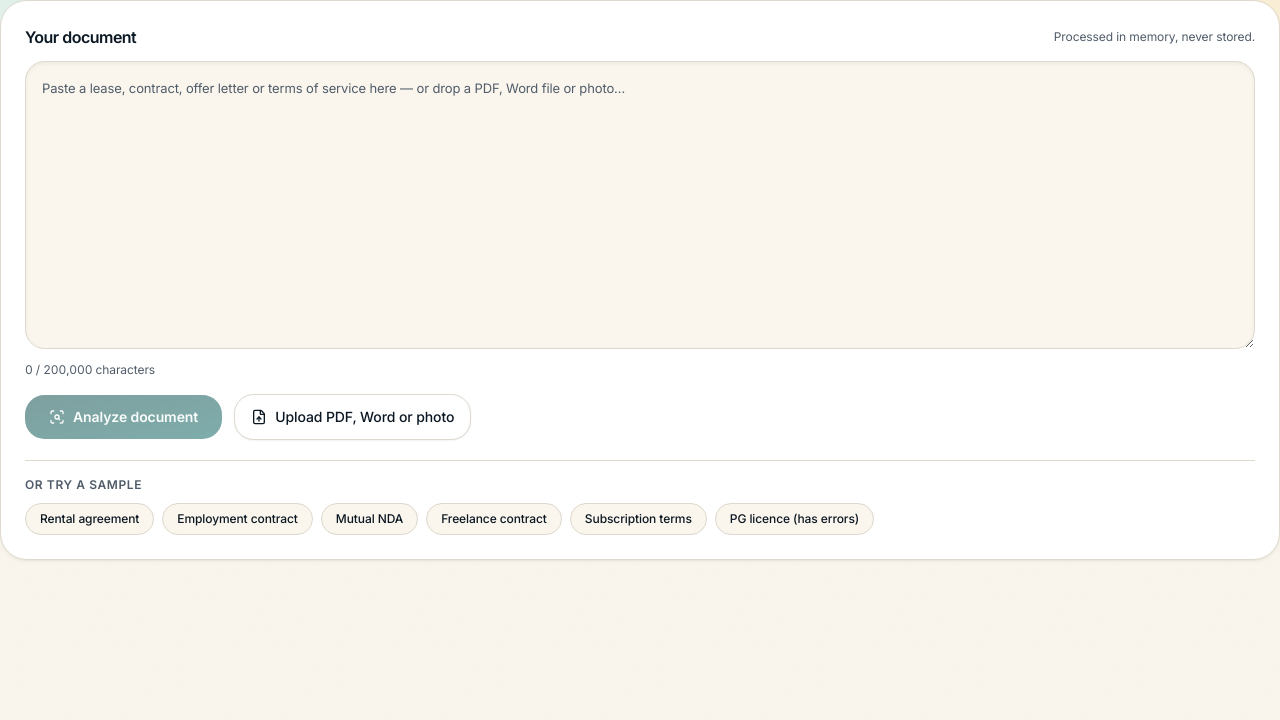
it: Analyzer › shows a server error as an alert tied to the text box
Step 1. Type "Too short." into the text box named "Document text" → (640, 205), box x1=25 y1=61 x2=1255 y2=348
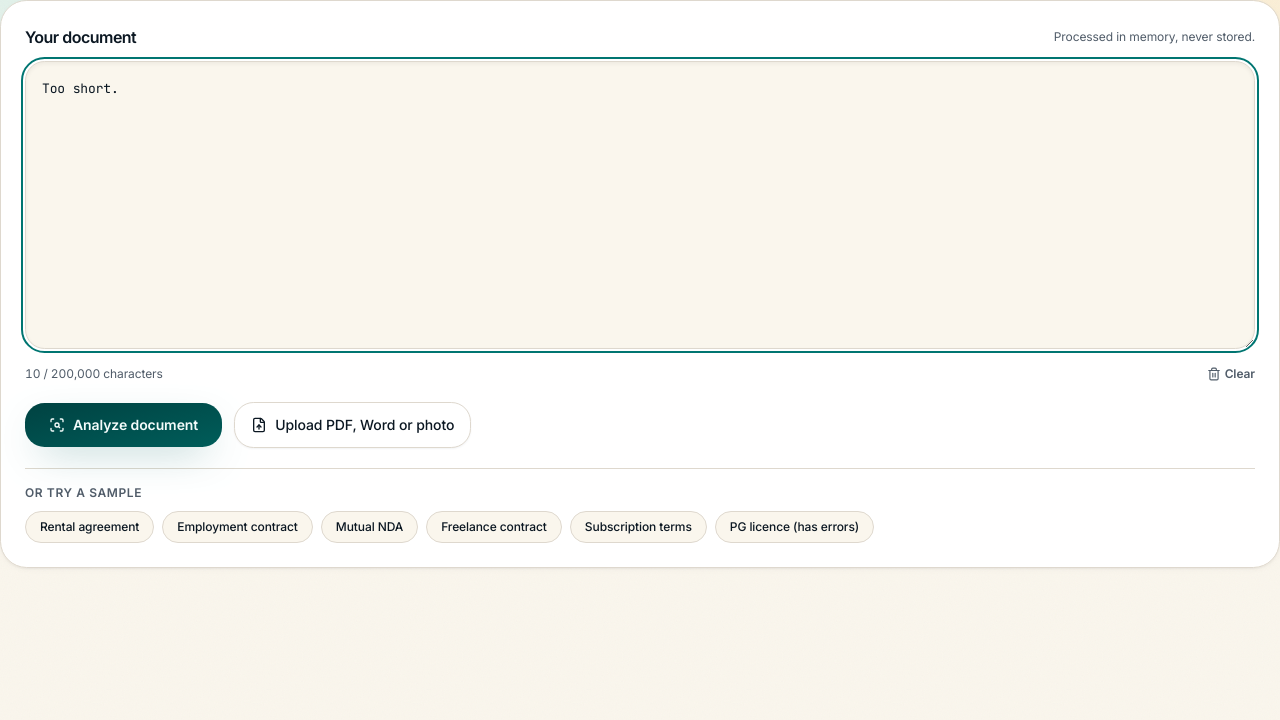
Step 2. Click the button "Analyze document" → click(124, 425), box x1=25 y1=403 x2=222 y2=447
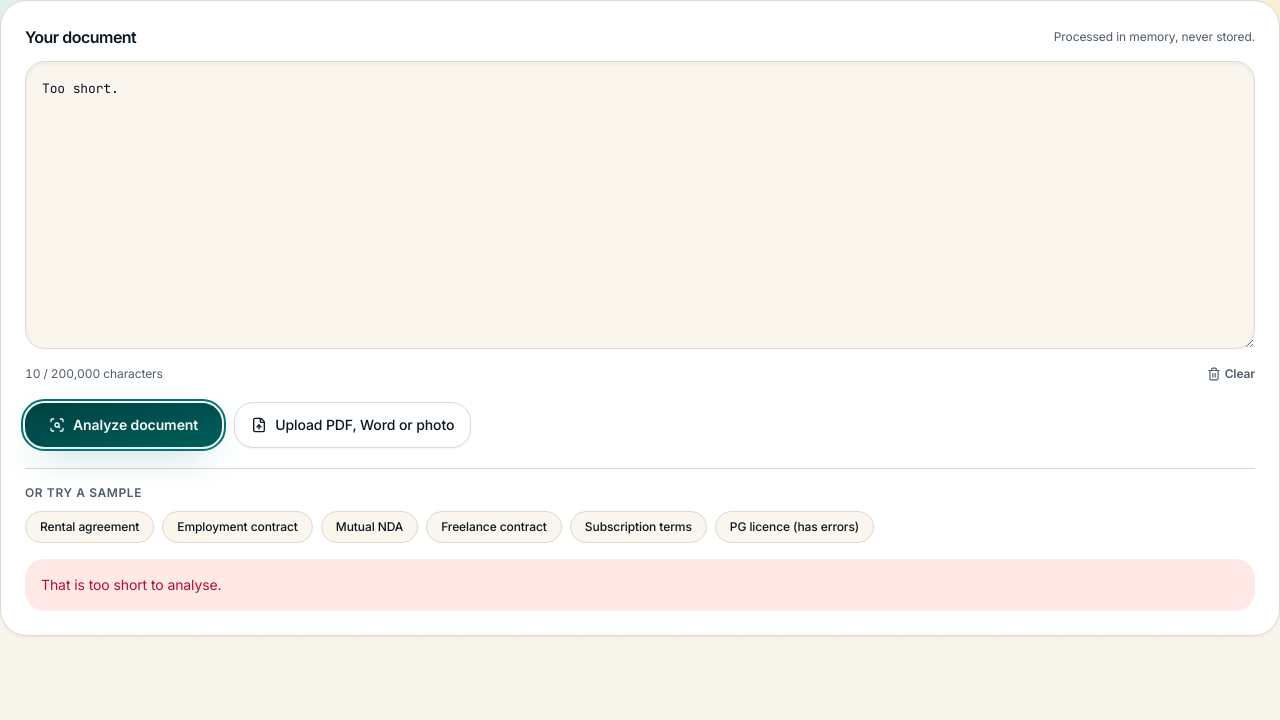
Expected: the message reads "That is too short to analyse.", x1=41 y1=576 x2=222 y2=593
